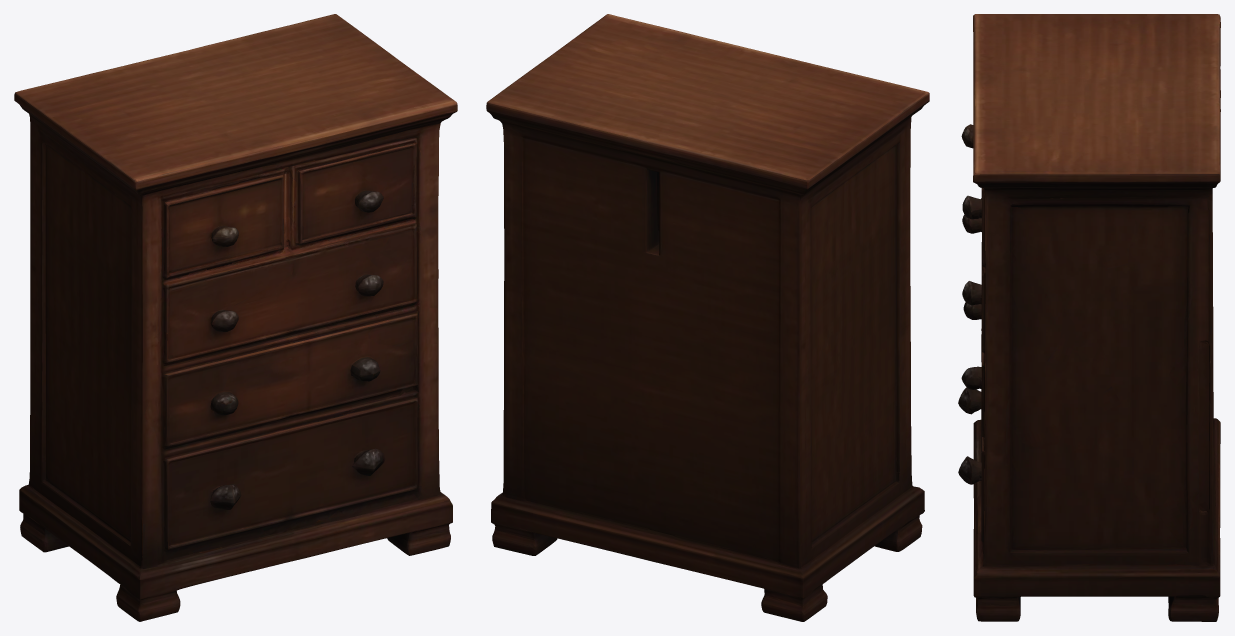
File: dresser_drawers.glb
3 views of the same model, side by side, from view 1: azimuth 30°, elevation 25°; view 2: azimuth 150°, elevation 25°; view 3: azimuth 270°, elevation 25° (orthographic).
Visible parts, largest first — view 1: geometry_0; view 2: geometry_0; view 3: geometry_0.
Part boxes in pixels (x1,y1,x2,y2): geometry_0: [14, 14, 457, 621]; geometry_0: [486, 14, 929, 621]; geometry_0: [958, 14, 1220, 621].
Size of the model in its own units: 0.7597 by 1 by 0.5272.
Materials: 1 (1 with a texture image).
